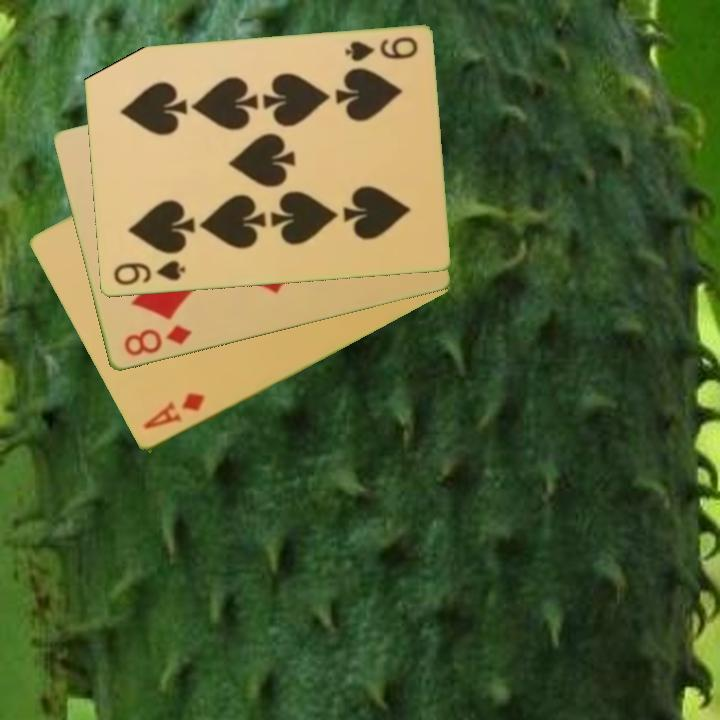8d: (120, 322, 194, 360)
9s: (341, 33, 420, 65), (110, 257, 188, 289)
Ad: (139, 389, 207, 433)
